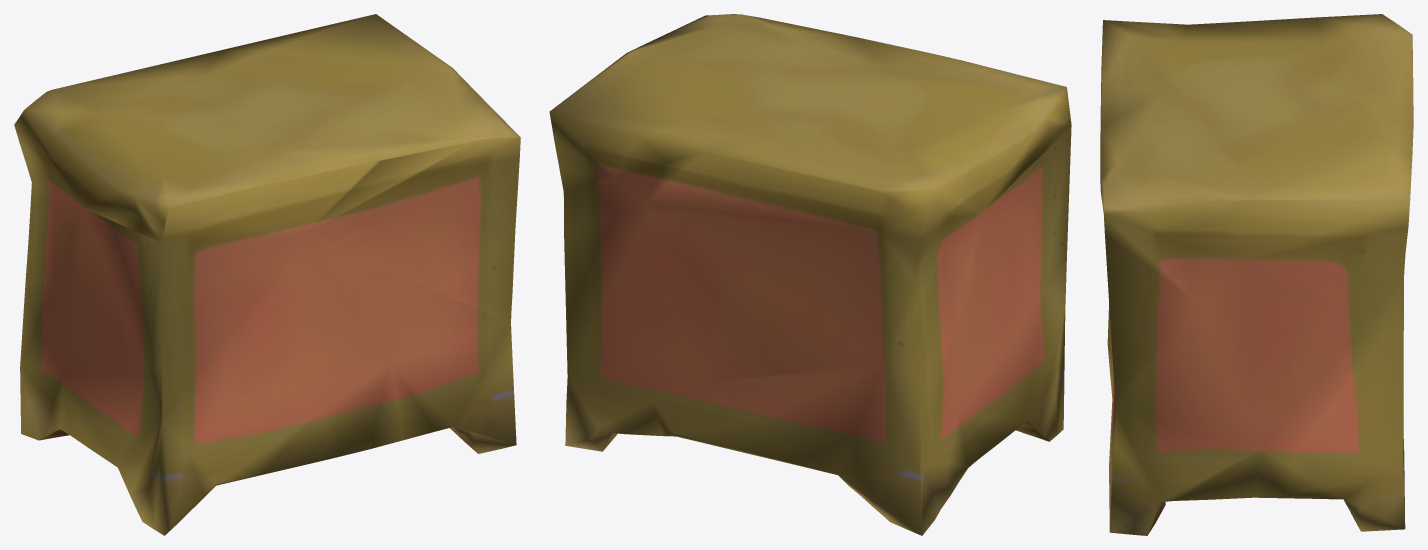
Rendered from italian-cassone.glb.
The picture shows the model from 3 angles, left to right: view 1: azimuth 30°, elevation 25°; view 2: azimuth 150°, elevation 25°; view 3: azimuth 270°, elevation 25°; orthographic projection. The views are drawn at different scales.
Parts seen in each view (by area): view 1: geometry_0.001; view 2: geometry_0.001; view 3: geometry_0.001.
Boxes of the visible parts, x1=… form: geometry_0.001: x1=14, y1=14, x2=520, y2=535; geometry_0.001: x1=549, y1=14, x2=1071, y2=535; geometry_0.001: x1=1100, y1=14, x2=1413, y2=535.
Bounding box in the file's own units: 0.9996 × 0.8687 × 0.7153.
1 material, 1 textured.
